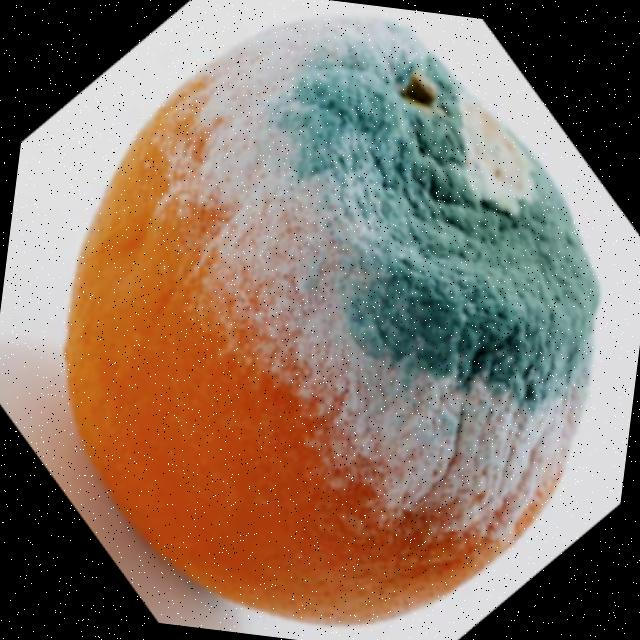Rotten: (31, 0, 634, 640)
